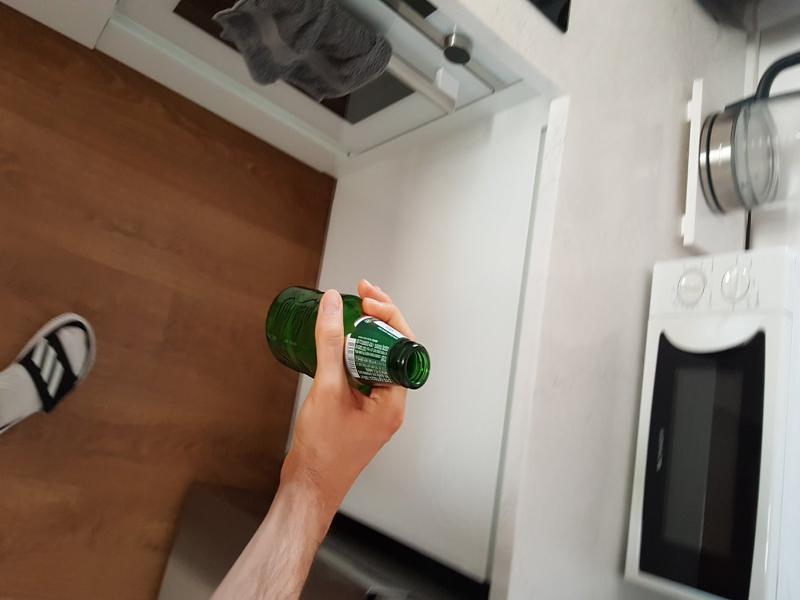Beer: (264, 286, 427, 389)
